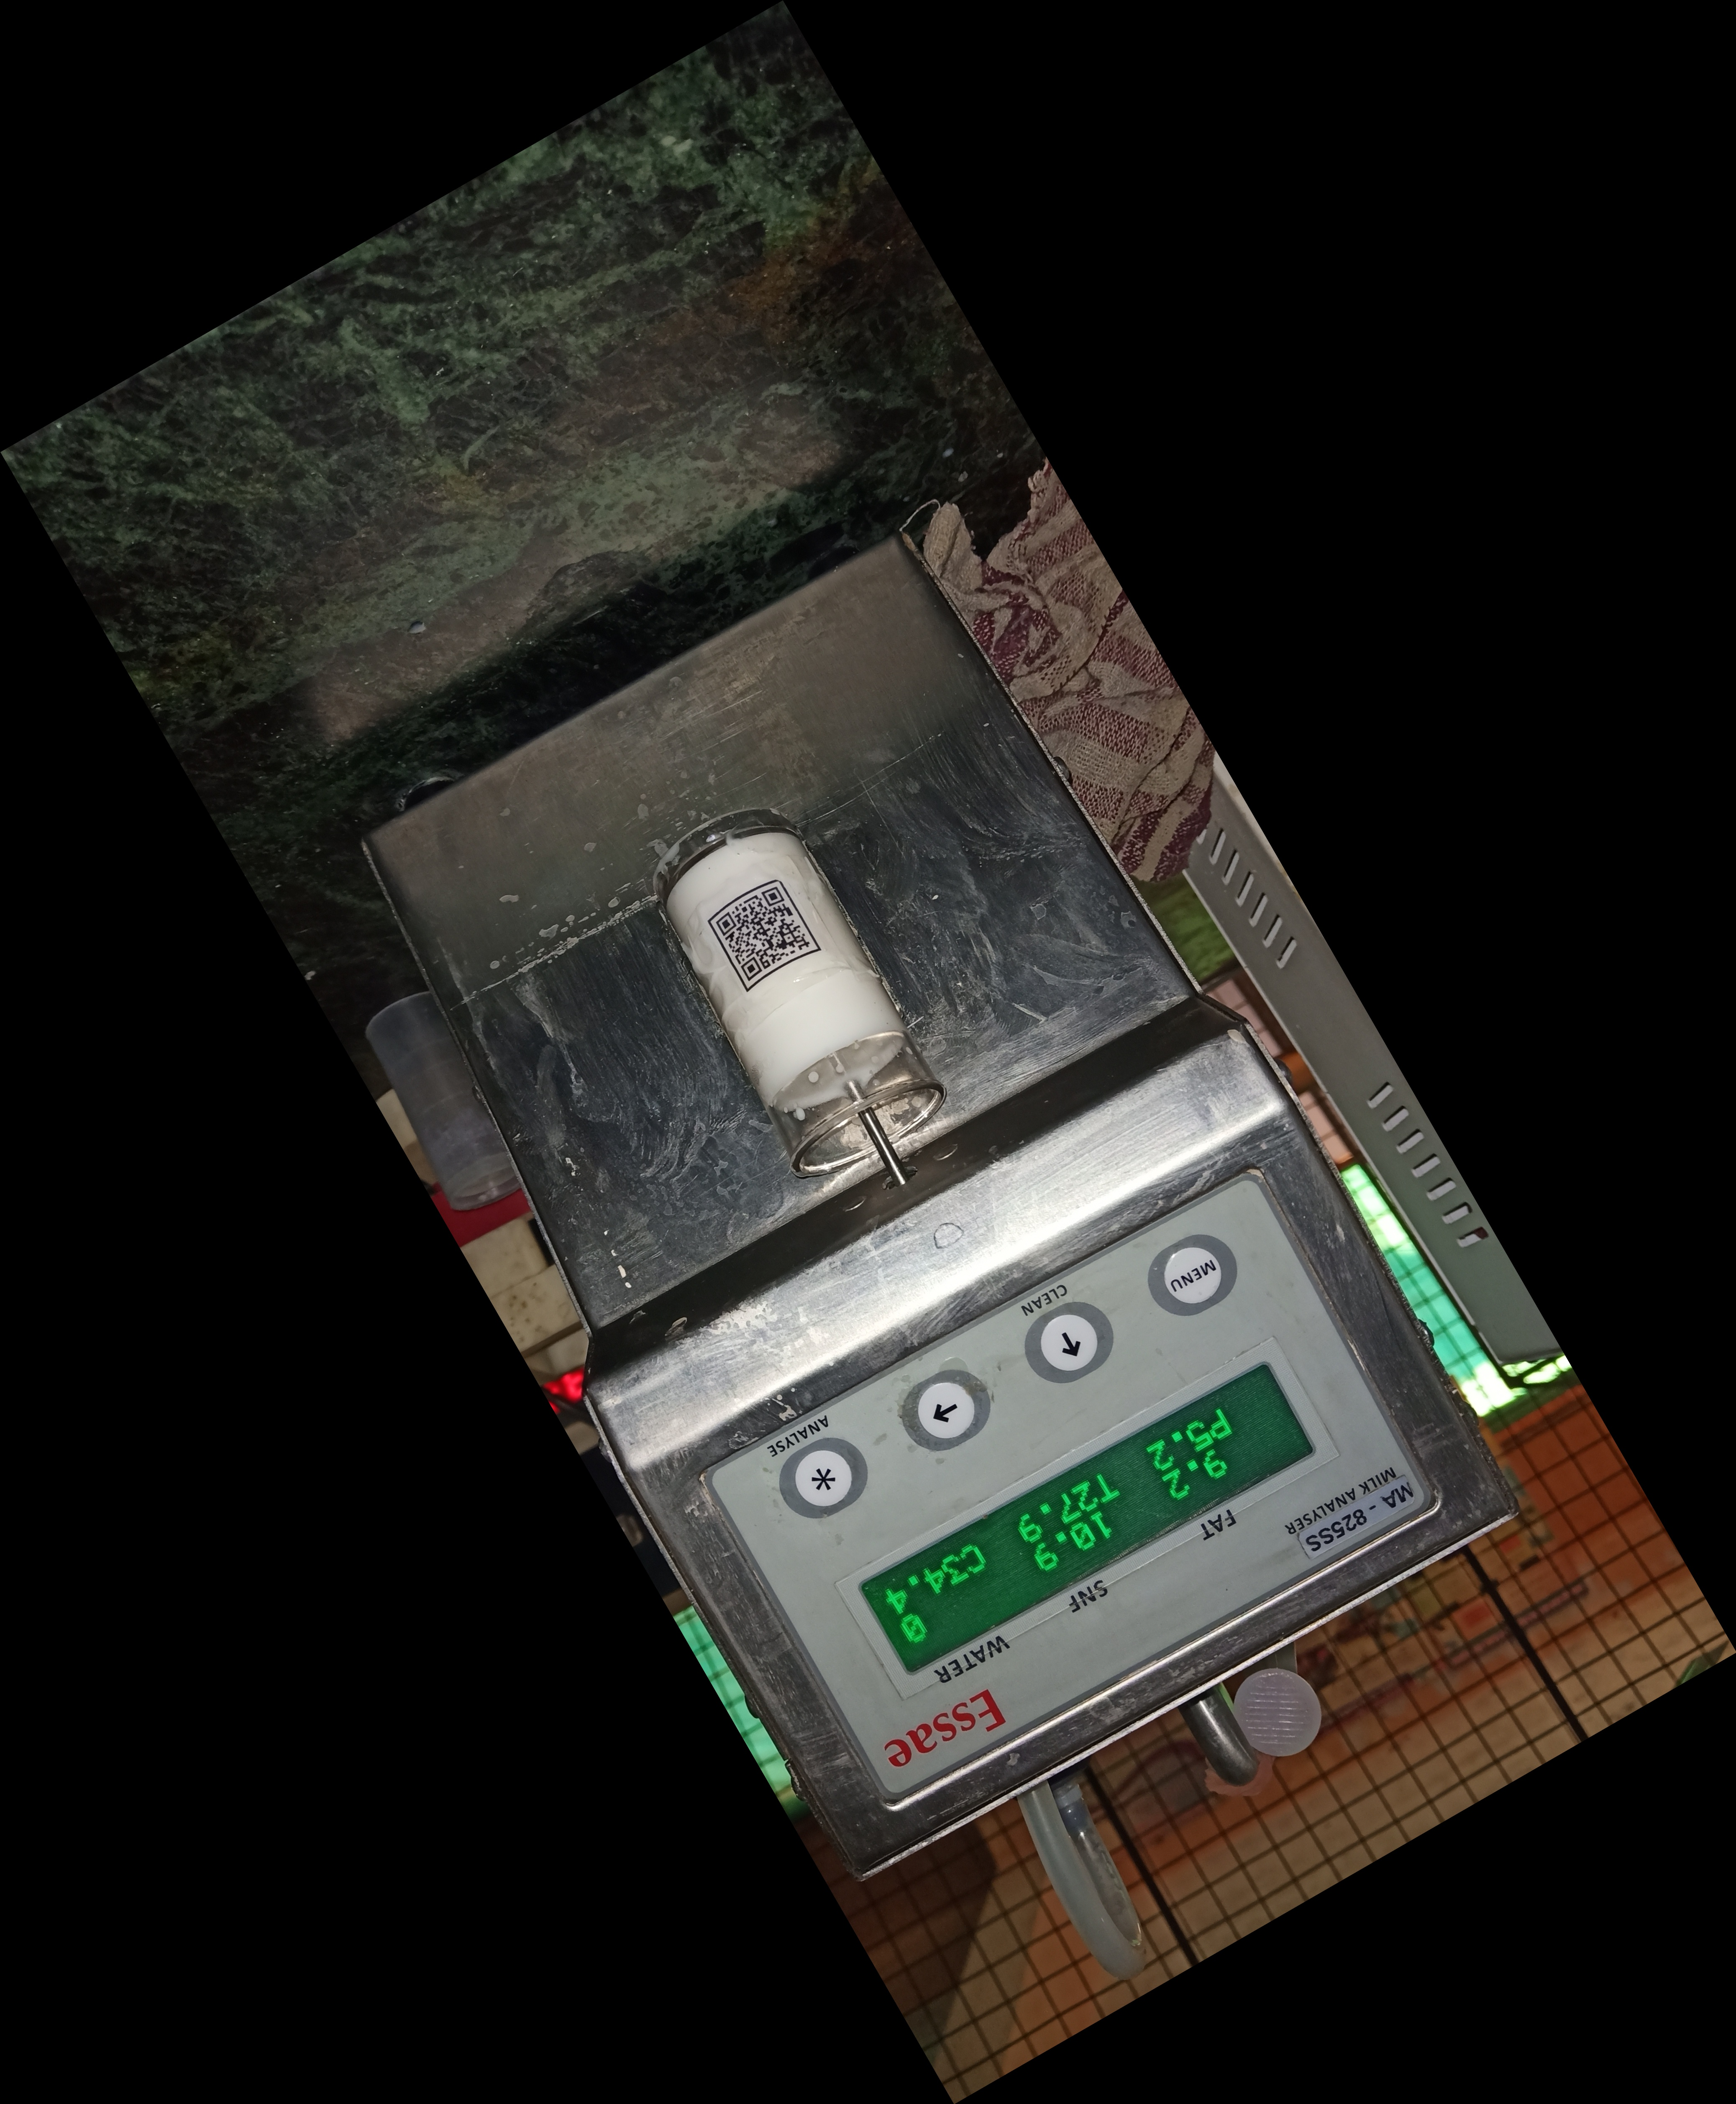lcd: (844, 1339, 1333, 1702)
qr: (699, 876, 828, 991)
